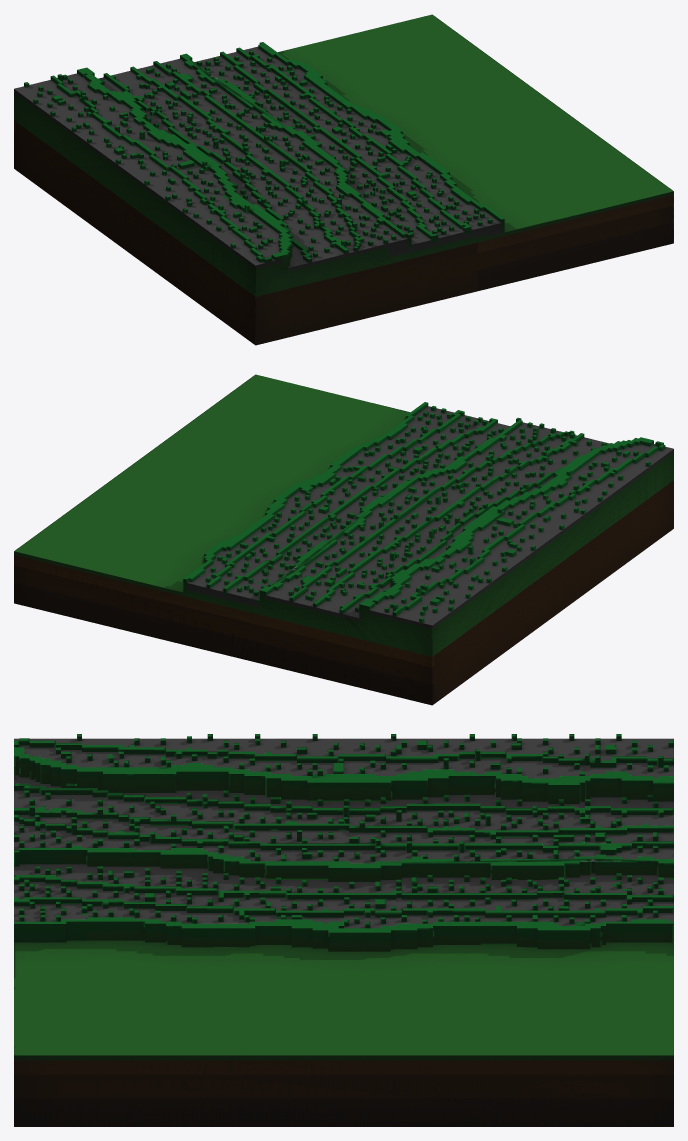
The picture shows the model from 3 angles, top to bottom: view 1: azimuth 30°, elevation 25°; view 2: azimuth 150°, elevation 25°; view 3: azimuth 270°, elevation 25°; orthographic projection. The views are drawn at different scales.
Visible parts, largest first — view 1: _B; view 2: _B; view 3: _B.
Boxes of the visible parts, box(x1,y1,x2,y2) form: _B: box(14, 14, 673, 345); _B: box(14, 374, 673, 705); _B: box(14, 734, 673, 1126).
Bounding box in the file's own units: 126 × 126 × 25.
1 material, 1 textured.
